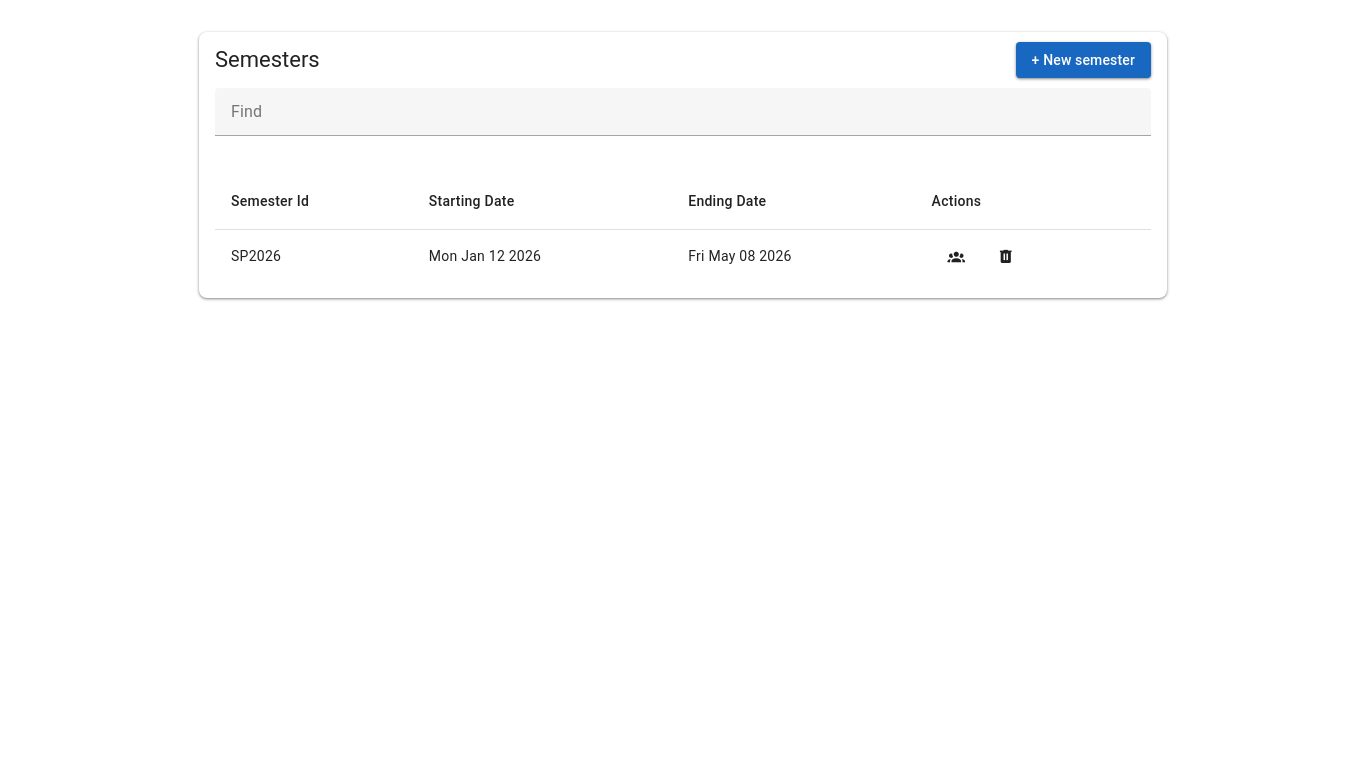
Feature 2 — Semester Management › US-2.4 — Edit and delete semesters › Admin deletes a semester
The width and height of the screenshot is (1366, 768).
Click the button named "Delete semester" at (1006, 257), box [997,248,1015,266]
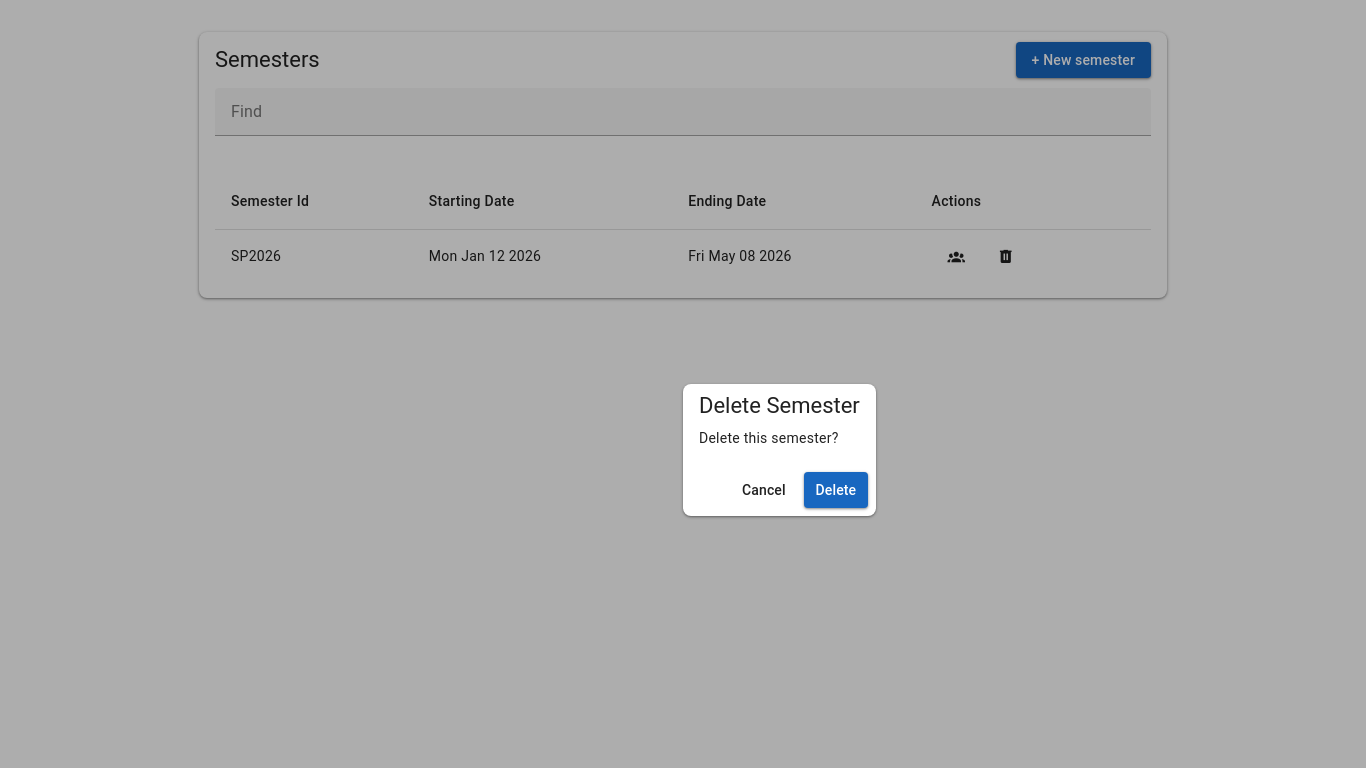
Click the button "Delete" at (836, 490), box [804,472,868,508]
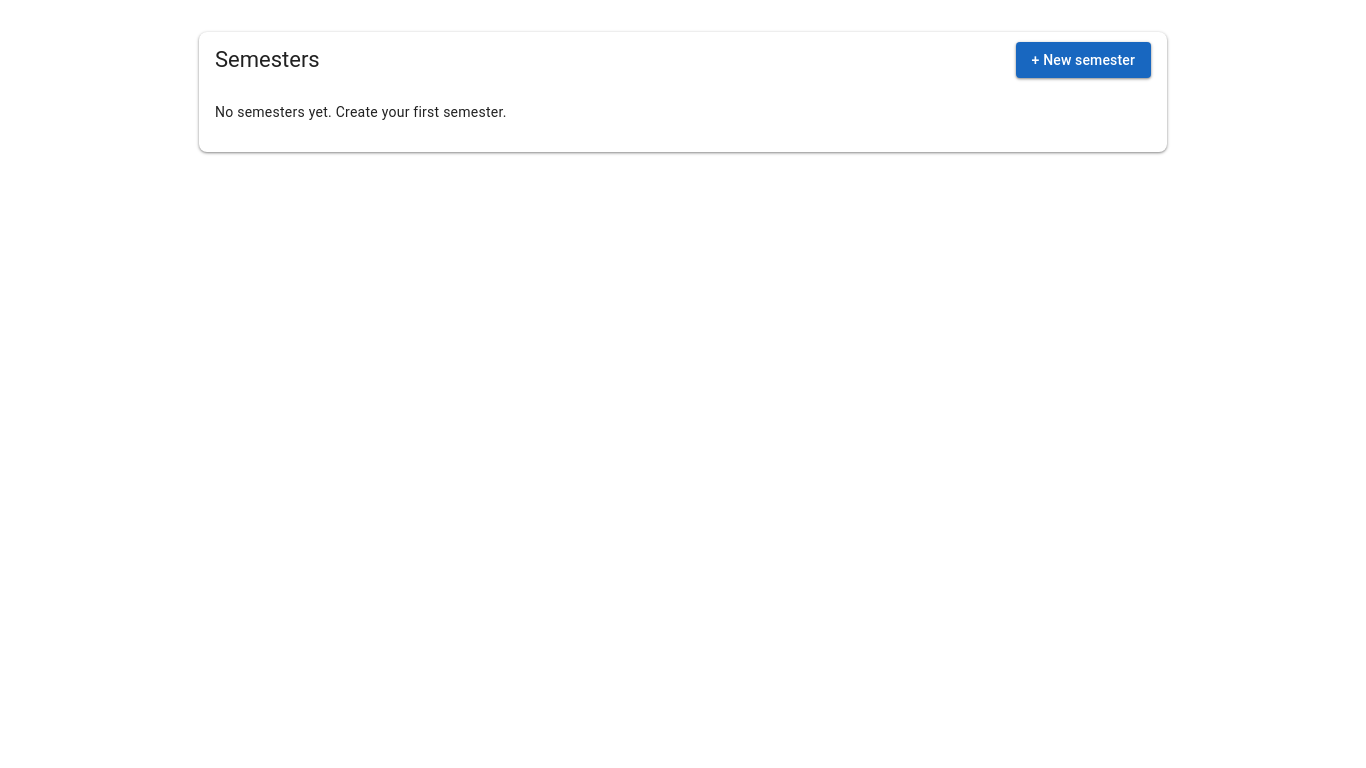
Now the text "SP2026" is gone
Now the text "No semesters yet. Create your first semester." is shown, box [215,104,507,120]
